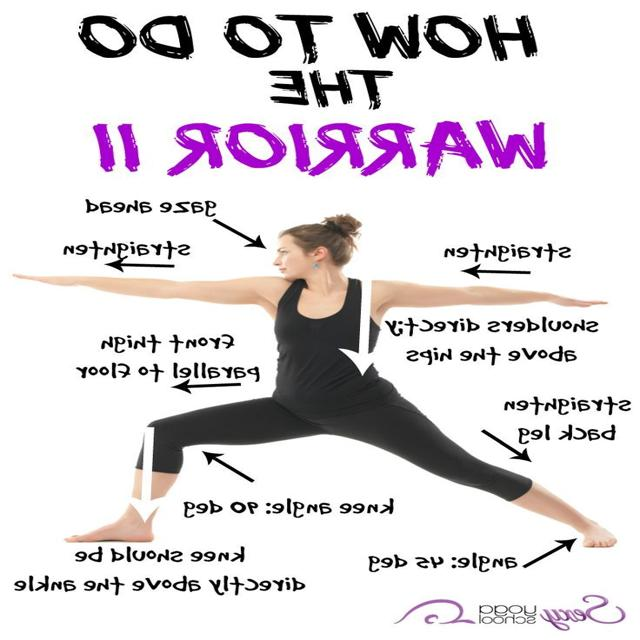Warrior_II: (15, 205, 619, 553)
